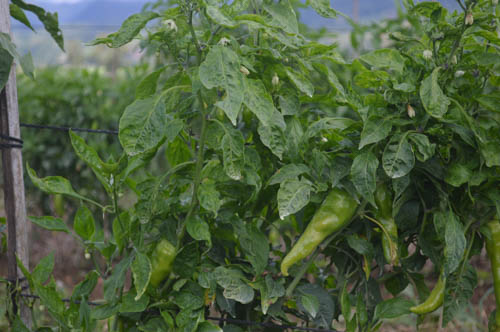ChiliPepper: (280, 190, 356, 288), (411, 268, 448, 314), (377, 190, 399, 265), (149, 242, 177, 294)
